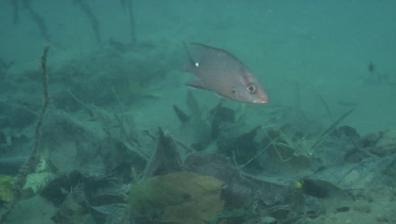Lutjanidae -Snappers-: (173, 33, 269, 106)
